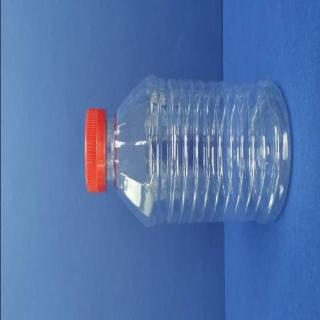Anorganik: (79, 69, 297, 242)
